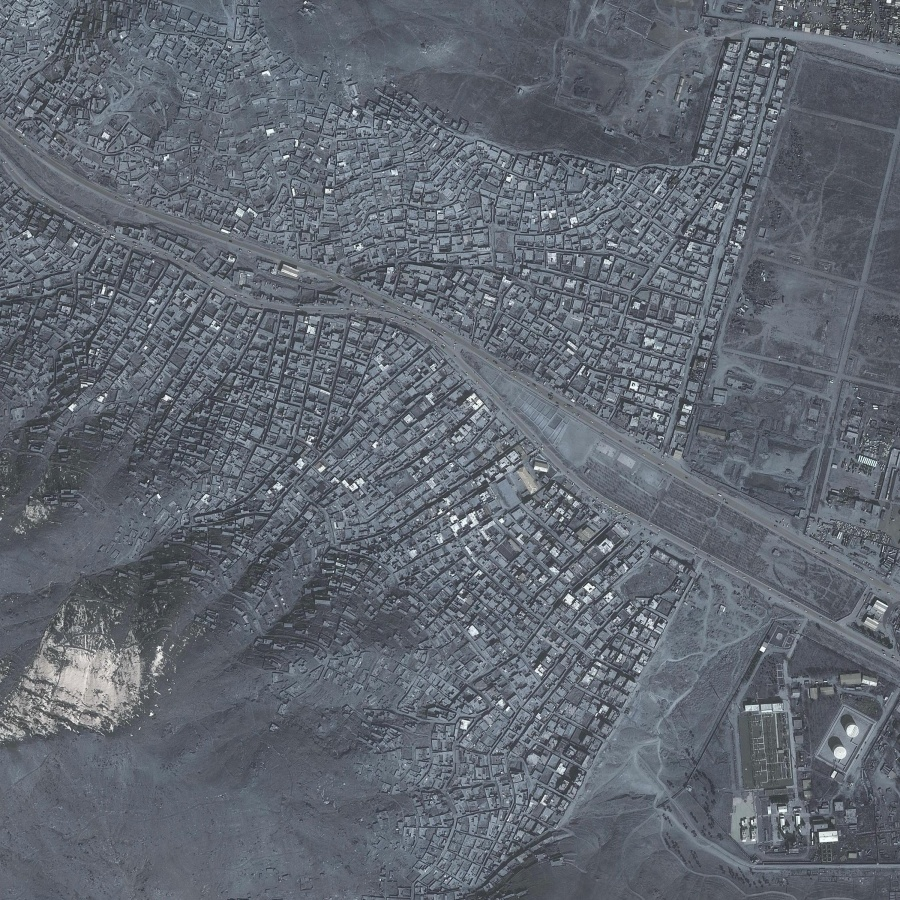PowerPlant: (740, 666, 883, 857)
